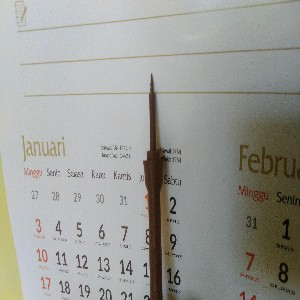solder: (142, 72, 164, 300)
